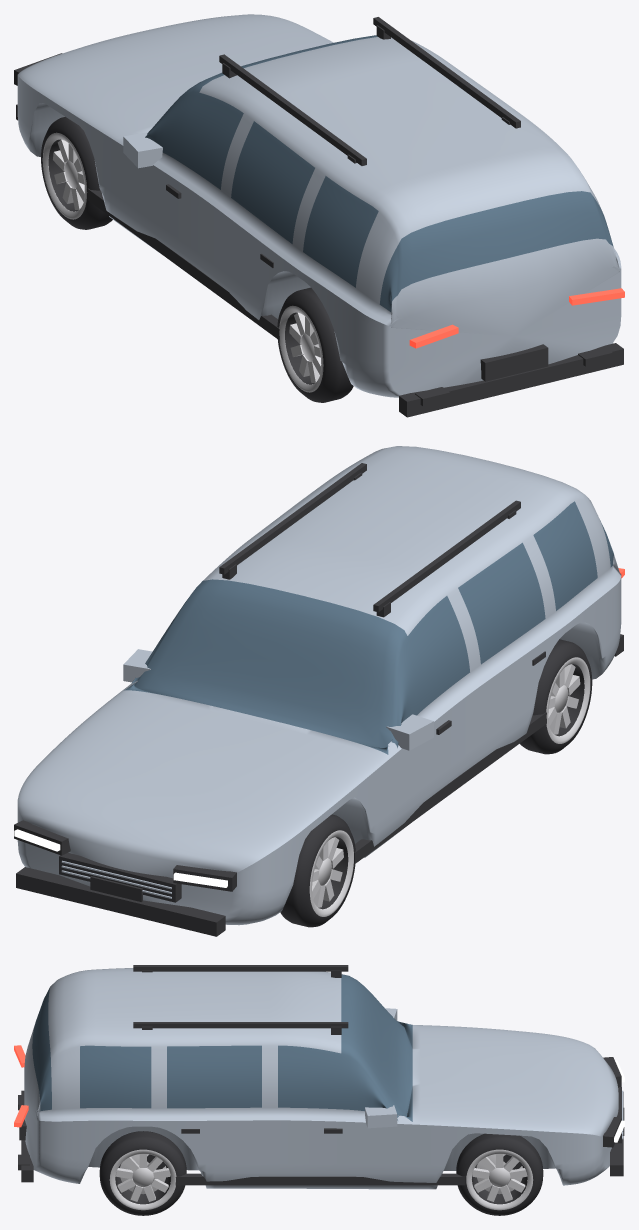
Rendered from estate.glb.
3 renders of one model, top to bottom at view 1: azimuth 30°, elevation 25°; view 2: azimuth 150°, elevation 25°; view 3: azimuth 270°, elevation 25°, orthographic. The views are drawn at different scales.
Parts seen in each view (by area): view 1: Body, Glass, Wheel_RL, Wheel_FL, BrakeLights; view 2: Body, Glass, Wheel_FL, Wheel_RL, Headlights; view 3: Body, Glass, Wheel_RR, Wheel_FR, BrakeLights.
Part boxes in pixels (<box>): Body: <box>14,14,623,417</box>; Glass: <box>145,35,613,312</box>; Wheel_RL: <box>277,287,353,402</box>; Wheel_FL: <box>41,117,112,229</box>; BrakeLights: <box>409,288,624,348</box>; Body: <box>14,446,623,936</box>; Glass: <box>124,501,613,754</box>; Wheel_FL: <box>280,814,355,927</box>; Wheel_RL: <box>520,639,592,754</box>; Headlights: <box>14,829,227,887</box>; Body: <box>18,965,624,1189</box>; Glass: <box>32,974,412,1121</box>; Wheel_RR: <box>99,1131,186,1215</box>; Wheel_FR: <box>456,1133,543,1215</box>; BrakeLights: <box>14,1045,28,1127</box>.
Bounding box in the file's own units: 2.07 × 1.56 × 4.92.
